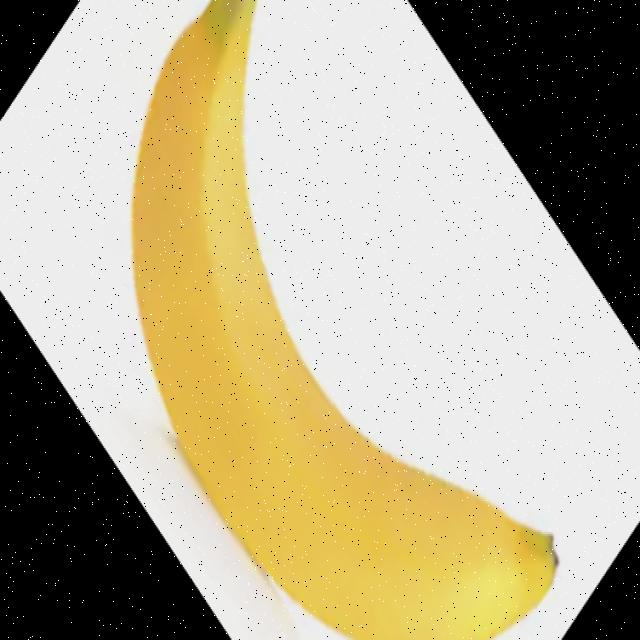god quality banana: (131, 2, 556, 640)
